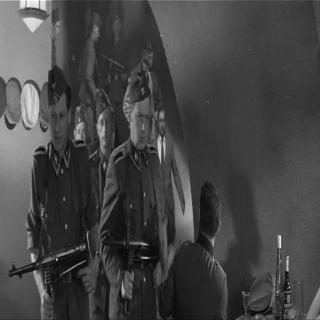gun: (6, 230, 88, 309), (99, 214, 160, 302)
